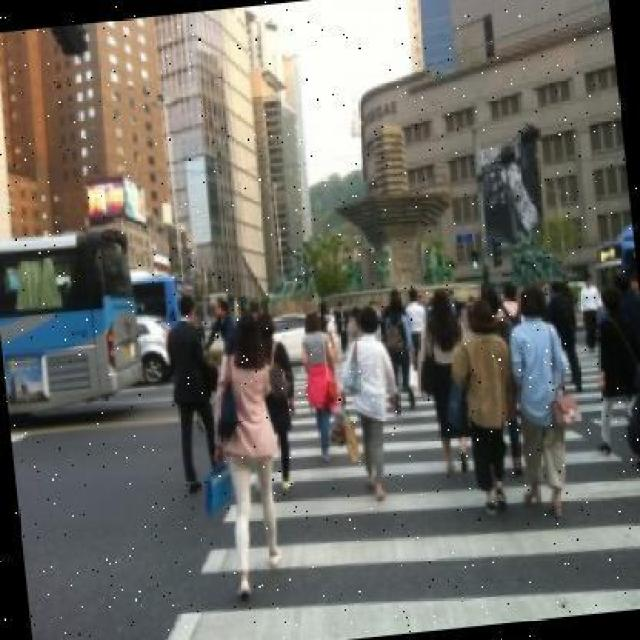Person: (210, 314, 290, 598), (502, 284, 582, 518), (448, 296, 523, 515), (332, 304, 402, 499), (165, 292, 226, 493), (414, 285, 477, 473), (255, 308, 302, 486), (296, 305, 347, 460), (378, 286, 419, 414), (573, 273, 605, 353)
